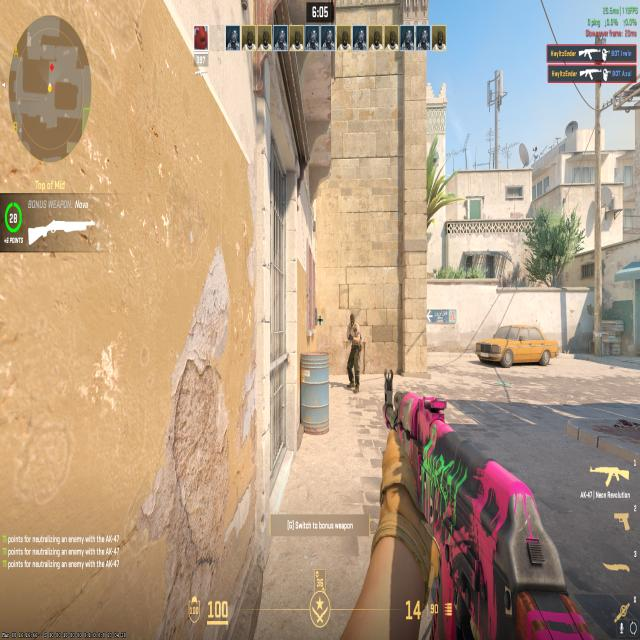t: (344, 306, 364, 401)
